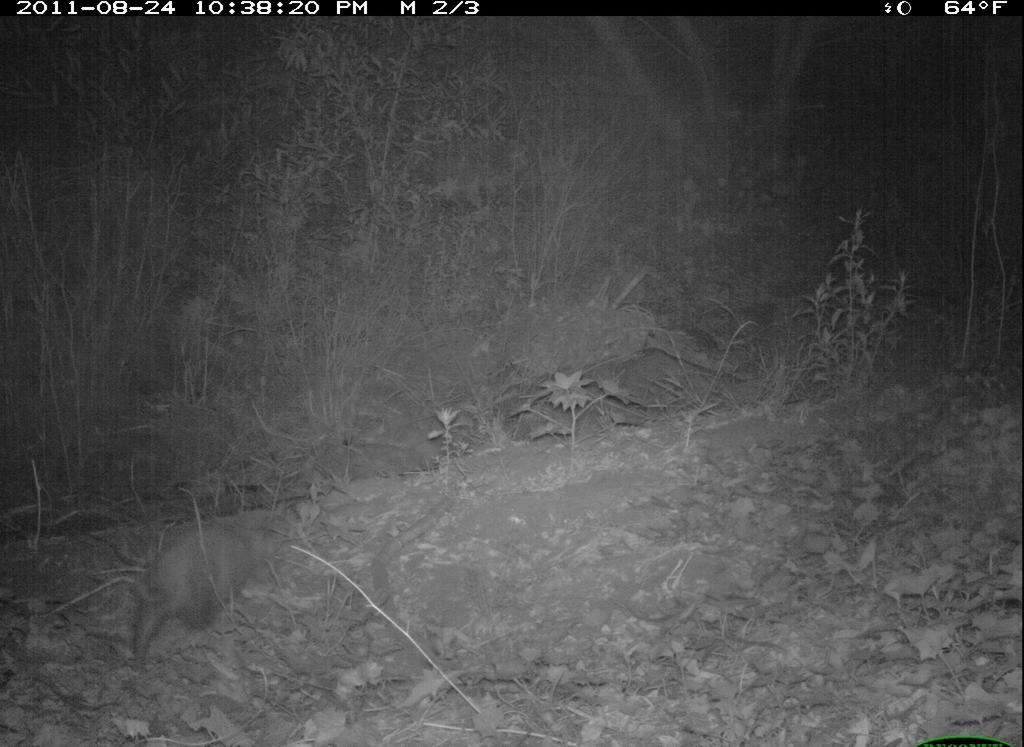opossum: (122, 513, 285, 679)
